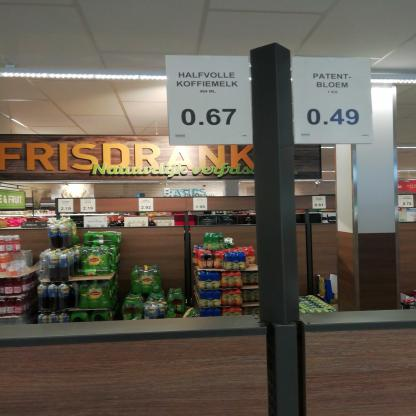prtg: (166, 55, 255, 147), (292, 58, 375, 147)
